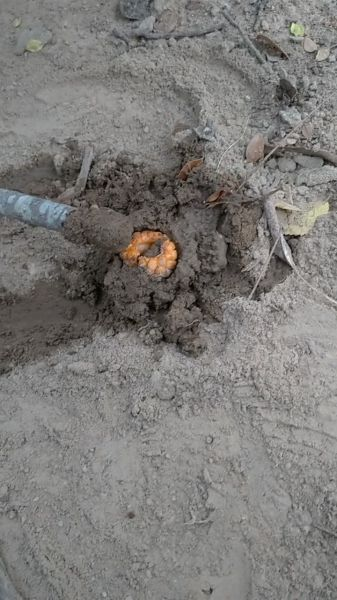eggs: (117, 222, 182, 284)
